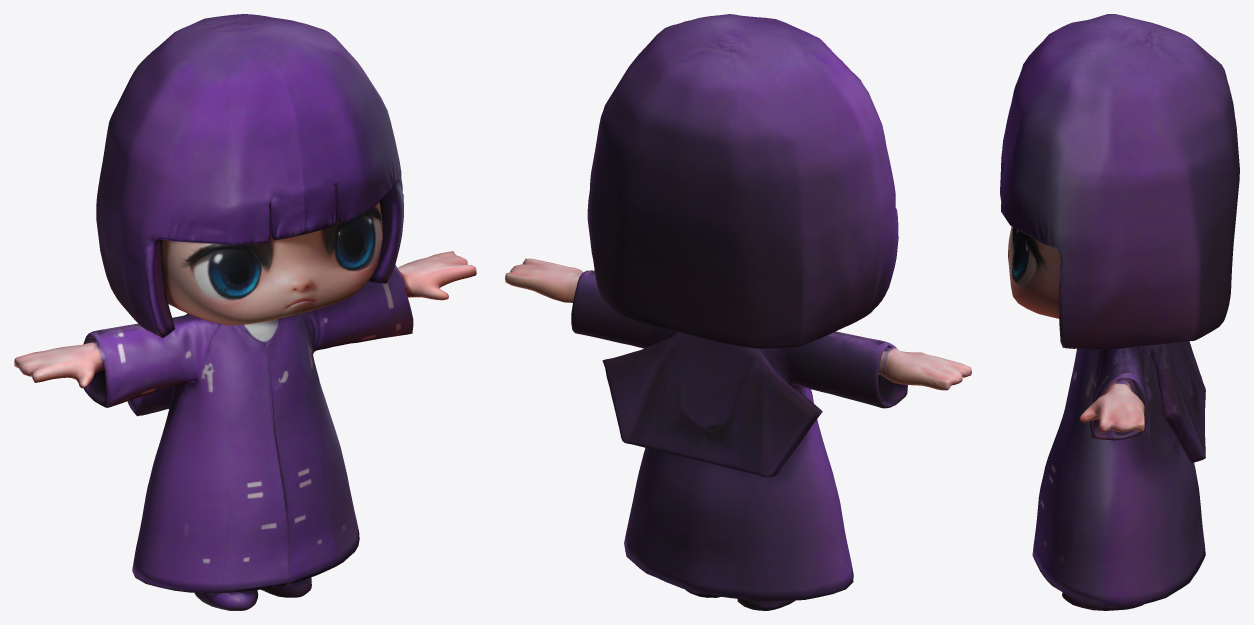
The model's file is 오징어게임_영희_0124085246_texture.fbx.
3 views of the same model, side by side, from view 1: azimuth 30°, elevation 25°; view 2: azimuth 150°, elevation 25°; view 3: azimuth 270°, elevation 25° (orthographic).
Parts seen in each view (by area): view 1: Mesh1_Mesh1.071; view 2: Mesh1_Mesh1.071; view 3: Mesh1_Mesh1.071.
Part boxes in pixels (<box>): Mesh1_Mesh1.071: <box>14,14,476,610</box>; Mesh1_Mesh1.071: <box>505,14,971,610</box>; Mesh1_Mesh1.071: <box>1000,14,1239,610</box>.
Bounding box in the file's own units: 168 × 200 × 78.68.
1 material, 1 textured.
